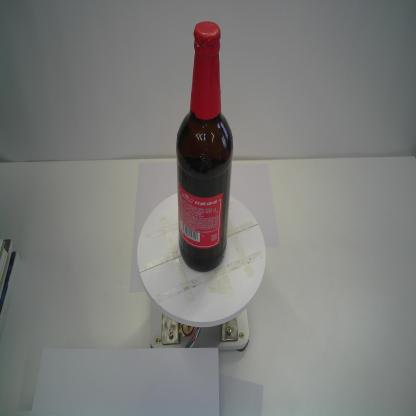Alcohol: (174, 18, 235, 273)
